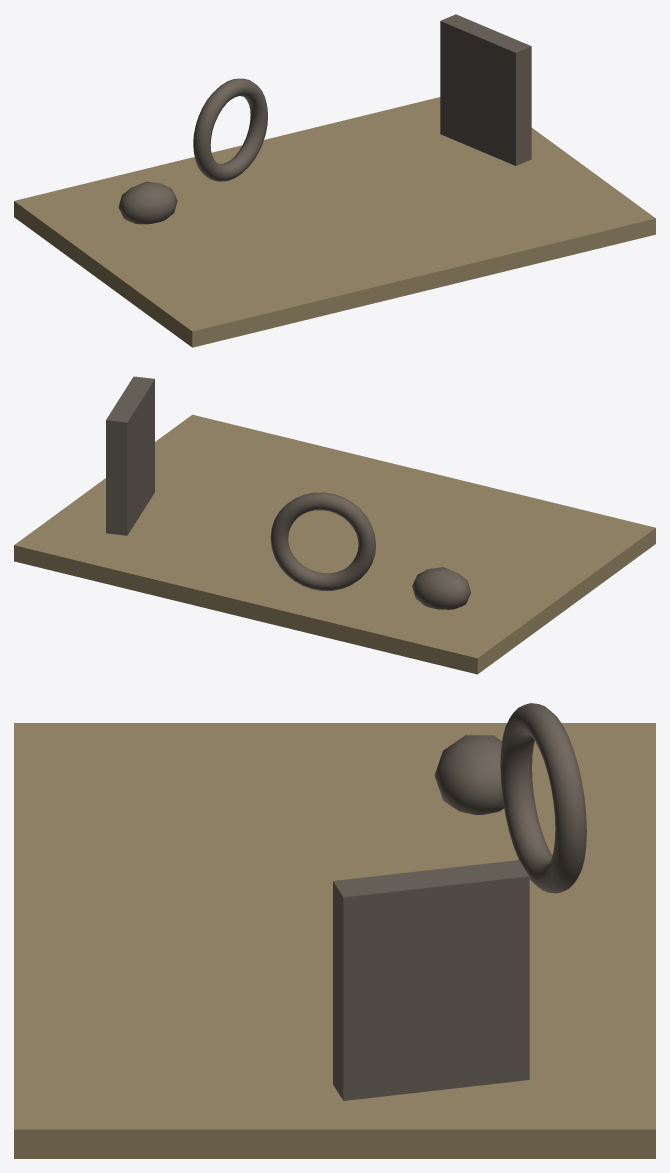
The model's file is stage.glb.
3 renders of one model, top to bottom at view 1: azimuth 30°, elevation 25°; view 2: azimuth 150°, elevation 25°; view 3: azimuth 270°, elevation 25°, orthographic. The views are drawn at different scales.
Visible parts, largest first — view 1: Ground, Wall, Arch, Rock; view 2: Ground, Wall, Arch, Rock; view 3: Ground, Wall, Arch, Rock.
Boxes of the visible parts, left/top/right/bottom form: Ground: left=14, top=97, right=655, bottom=347; Wall: left=440, top=14, right=531, bottom=165; Arch: left=193, top=78, right=267, bottom=181; Rock: left=118, top=181, right=177, bottom=224; Ground: left=14, top=414, right=655, bottom=674; Wall: left=106, top=376, right=154, bottom=535; Arch: left=270, top=492, right=375, bottom=590; Rock: left=412, top=567, right=470, bottom=609; Ground: left=14, top=723, right=655, bottom=1158; Wall: left=333, top=860, right=529, bottom=1100; Arch: left=500, top=703, right=586, bottom=893; Rock: left=434, top=735, right=503, bottom=814.
Size of the model in its own units: 6 by 1.6 by 4.
